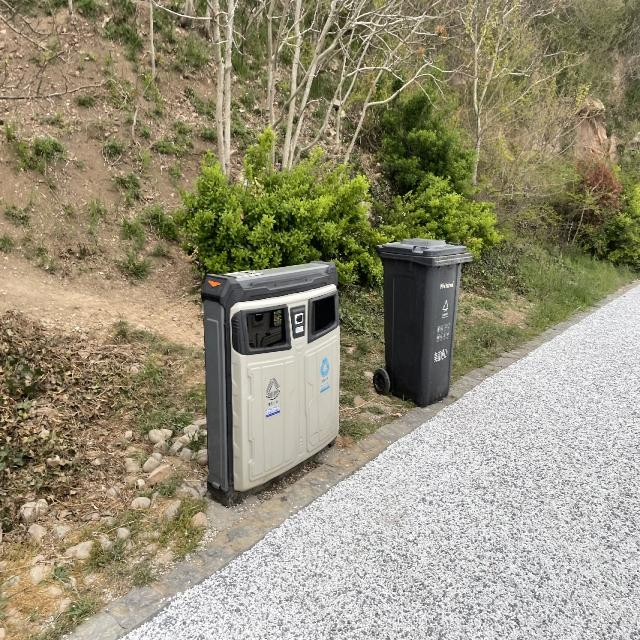garbage_bin: (198, 260, 341, 508), (375, 235, 471, 407)
